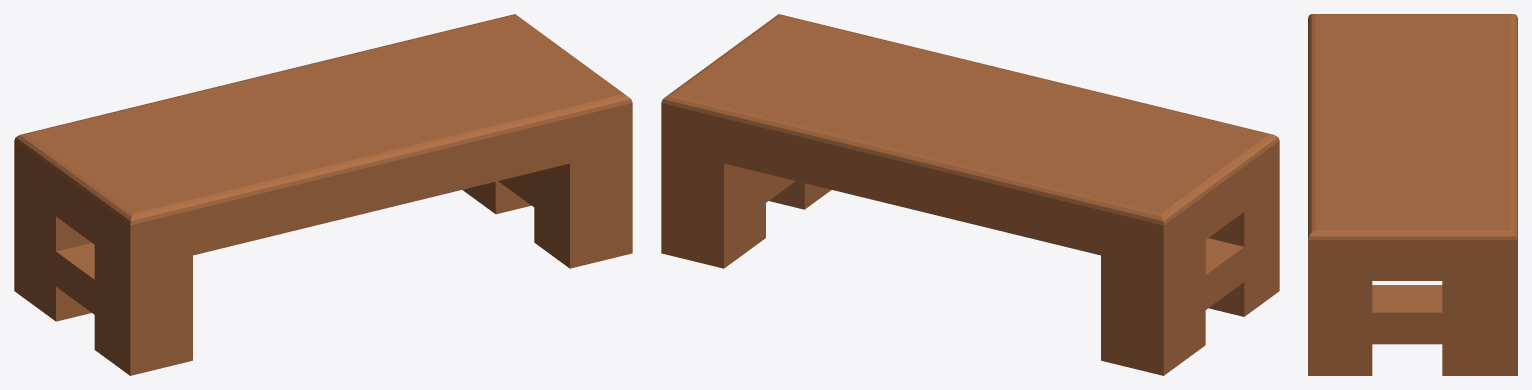
The model's file is Table.fbx.
3 views of the same model, side by side, from view 1: azimuth 30°, elevation 25°; view 2: azimuth 150°, elevation 25°; view 3: azimuth 270°, elevation 25° (orthographic). The views are drawn at different scales.
Parts seen in each view (by area): view 1: Cube; view 2: Cube; view 3: Cube.
Boxes of the visible parts, x1,y1,x2,y2 form: Cube: [14, 14, 632, 375]; Cube: [661, 14, 1279, 375]; Cube: [1308, 14, 1517, 375].
Size of the model in its own units: 4048 by 1214 by 1619.
